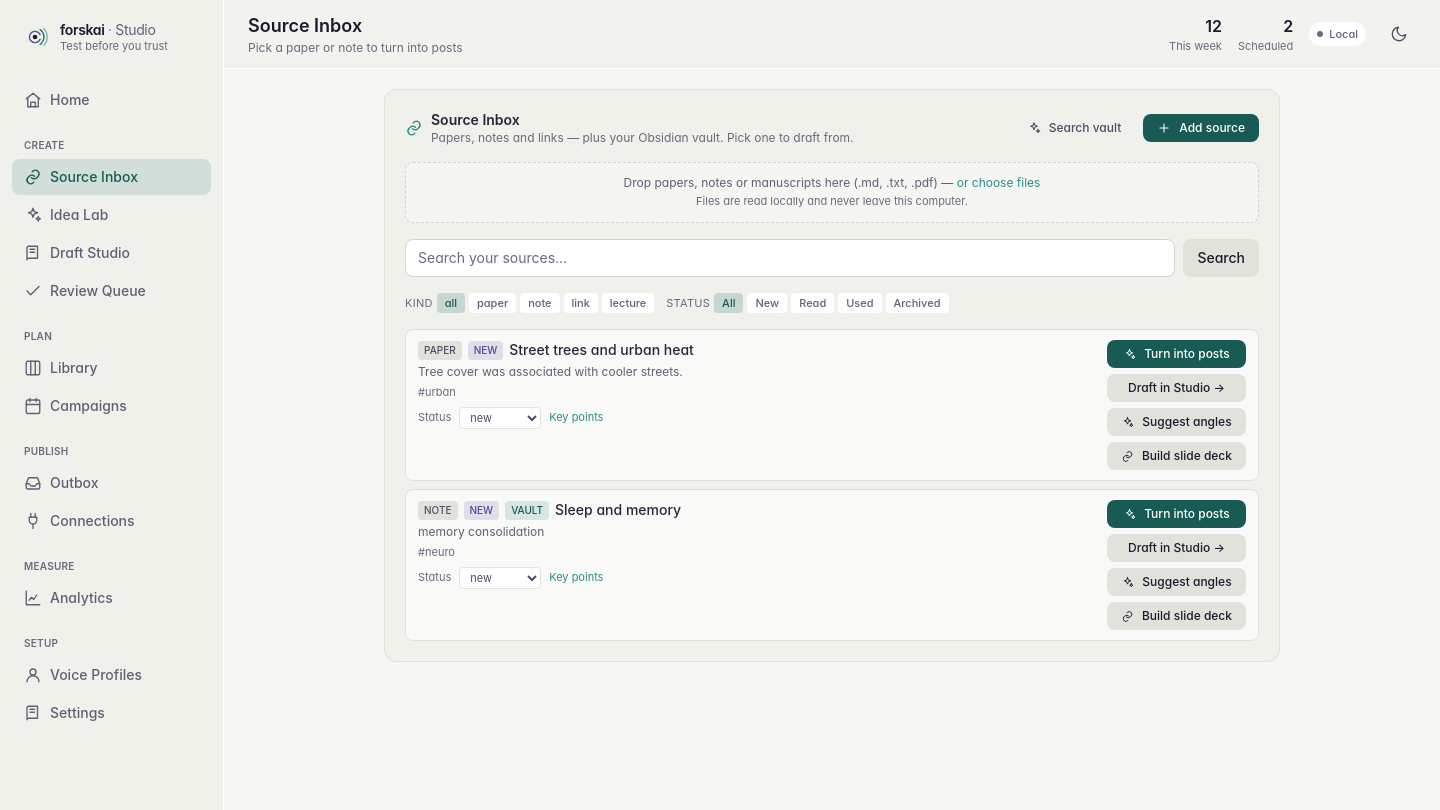
Source Inbox › searches the vault when Enter is pressed in the vault search box
Expected: the list with test id "source-list" is shown, [405,329,1259,641]
Click the button "Search vault".
click(1074, 128)  # box [1013,114,1135,142]
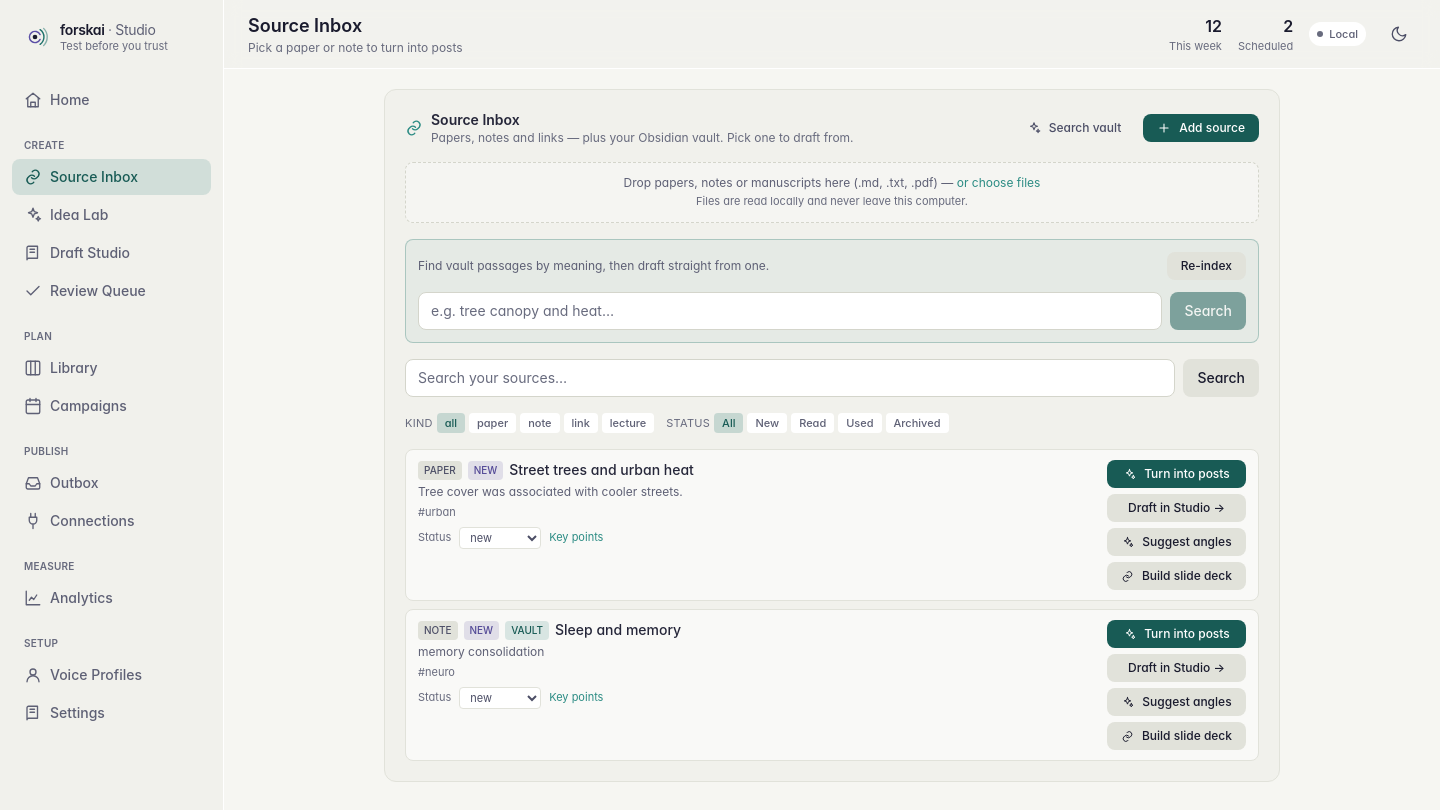
Type "trees pavement" into the field named "Search your vault".
click(790, 310); type("trees pavement")  # box [418,292,1162,330]
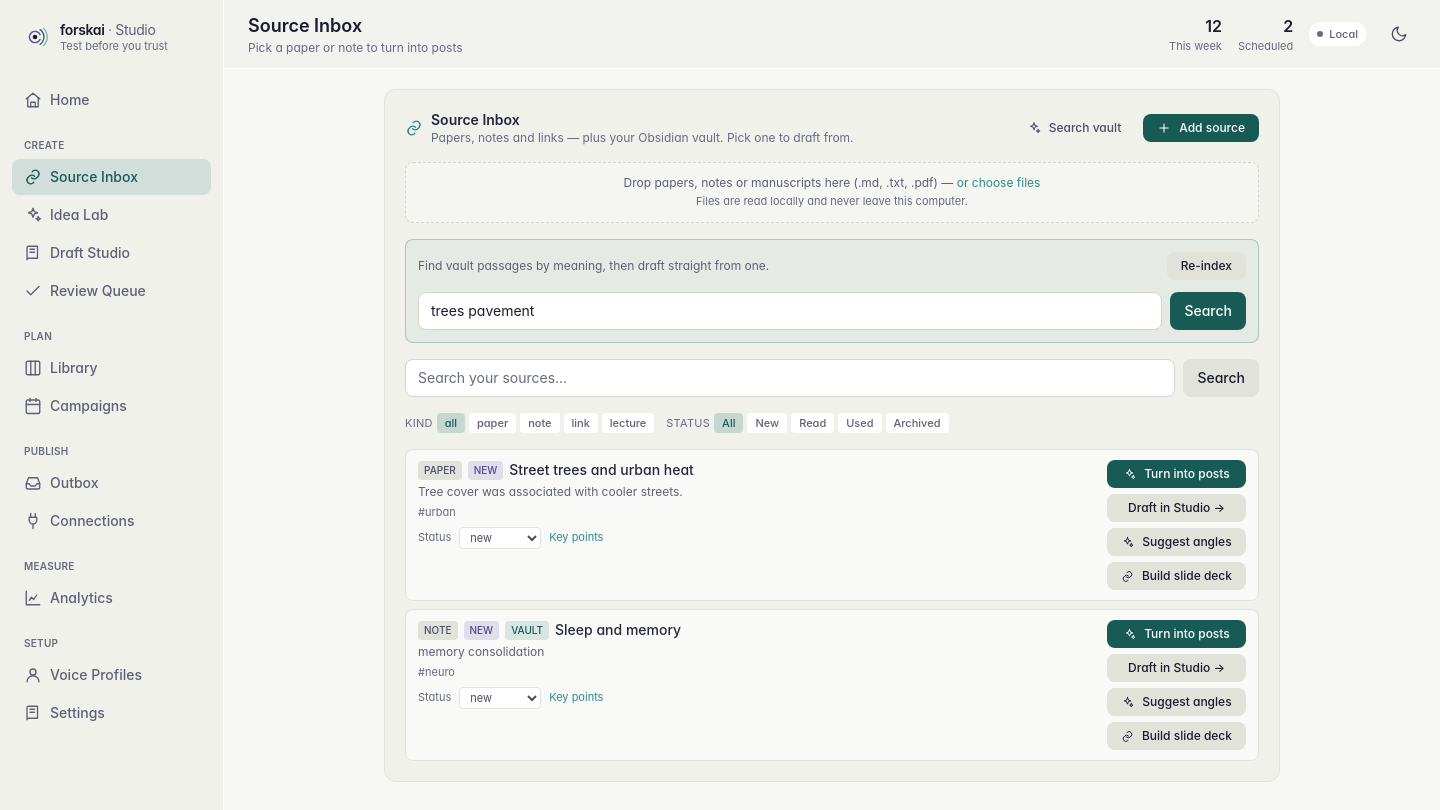
Press Enter in the field named "Search your vault", box [418,292,1162,330]
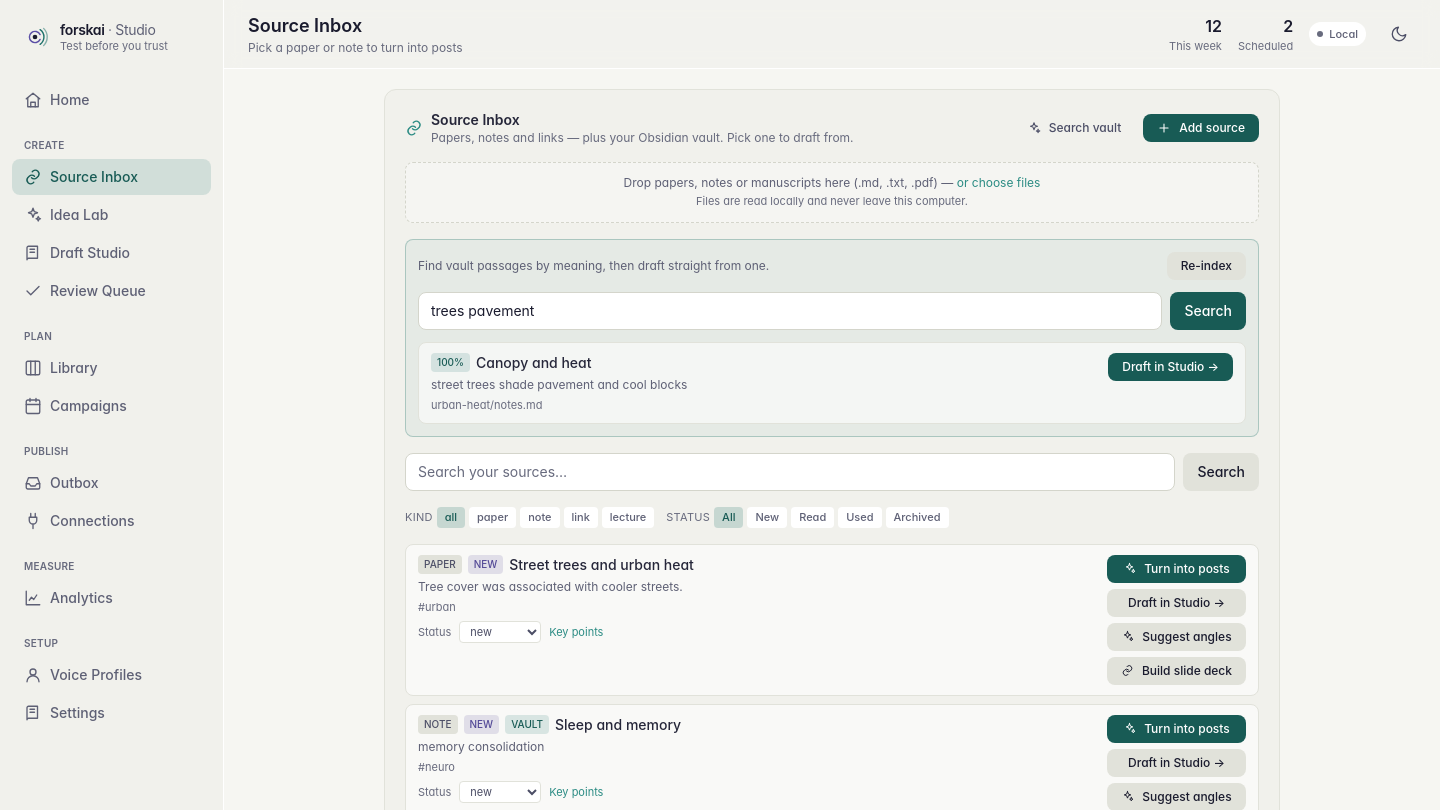
Result: the text "Canopy and heat" is shown at [476,352,592,372]
